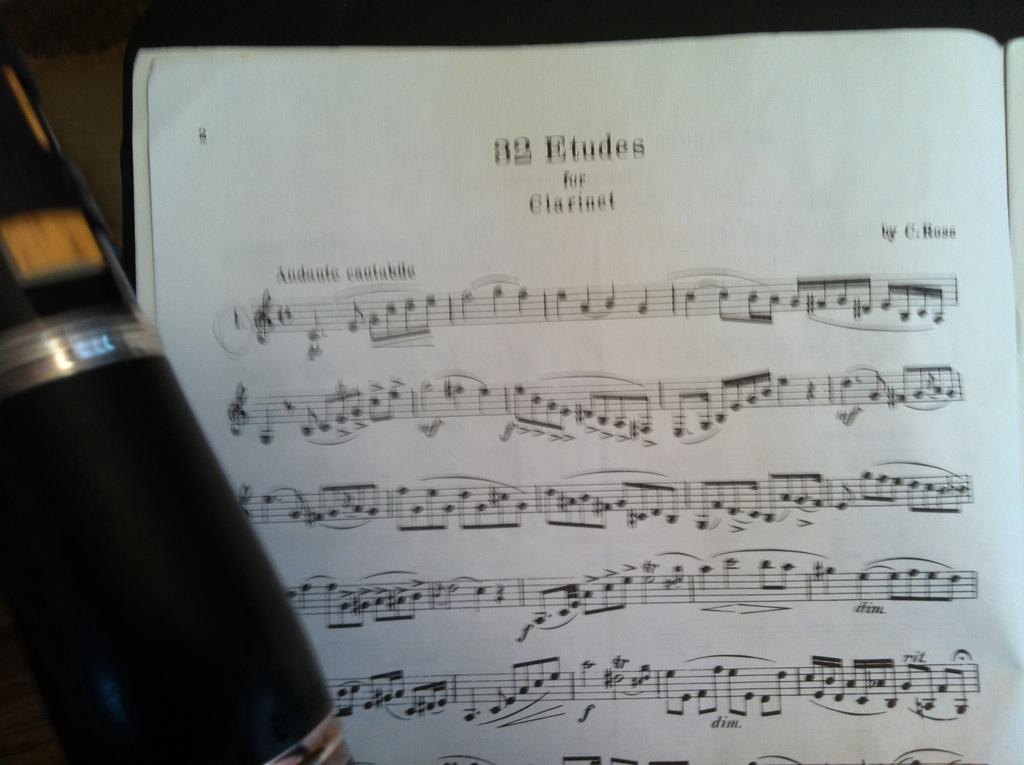pen: (0, 13, 361, 764)
